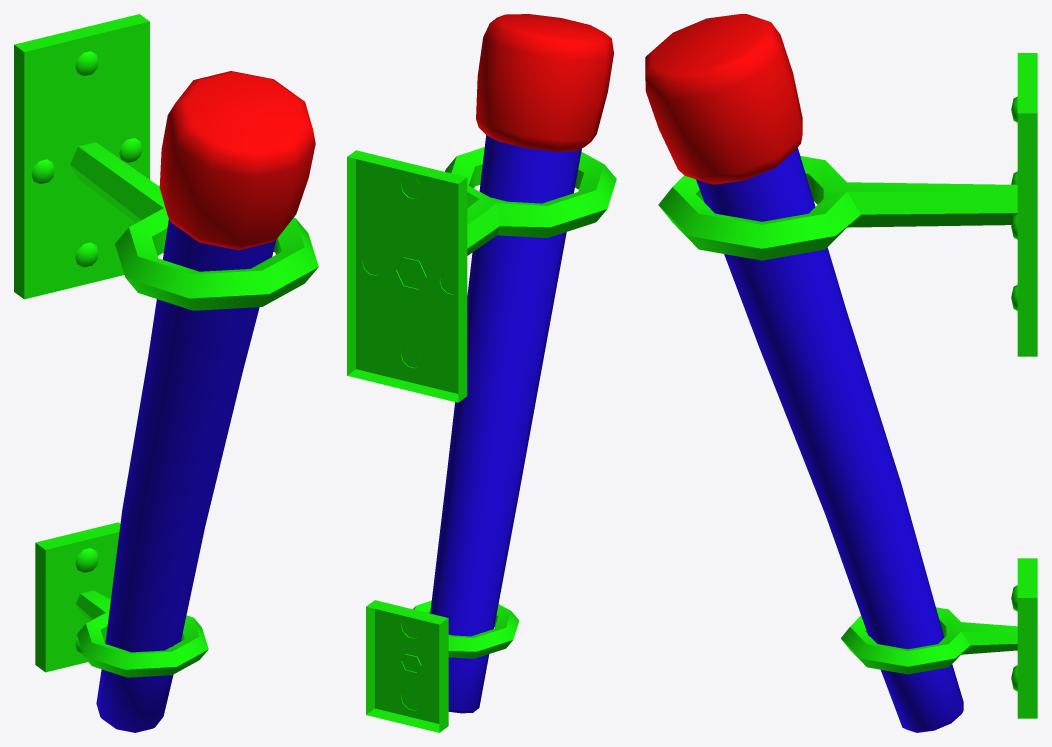
Rendered from Dungeon_WallTorchWood.fbx.
The picture shows the model from 3 angles, left to right: view 1: azimuth 30°, elevation 25°; view 2: azimuth 150°, elevation 25°; view 3: azimuth 270°, elevation 25°; orthographic projection. The views are drawn at different scales.
Visible parts, largest first — view 1: wooden_torch_sconce, wooden_torch, wooden_torch_cloth; view 2: wooden_torch_sconce, wooden_torch, wooden_torch_cloth; view 3: wooden_torch, wooden_torch_sconce, wooden_torch_cloth.
Boxes of the visible parts, x1=… form: wooden_torch_sconce: x1=14, y1=14, x2=318, y2=677; wooden_torch: x1=96, y1=219, x2=276, y2=732; wooden_torch_cloth: x1=159, y1=71, x2=315, y2=250; wooden_torch_sconce: x1=347, y1=147, x2=616, y2=732; wooden_torch: x1=430, y1=135, x2=581, y2=713; wooden_torch_cloth: x1=476, y1=14, x2=613, y2=151; wooden_torch: x1=696, y1=147, x2=963, y2=732; wooden_torch_sconce: x1=658, y1=53, x2=1037, y2=718; wooden_torch_cloth: x1=645, y1=14, x2=802, y2=184.
Size of the model in its own units: 16.36 by 60.53 by 30.88.
